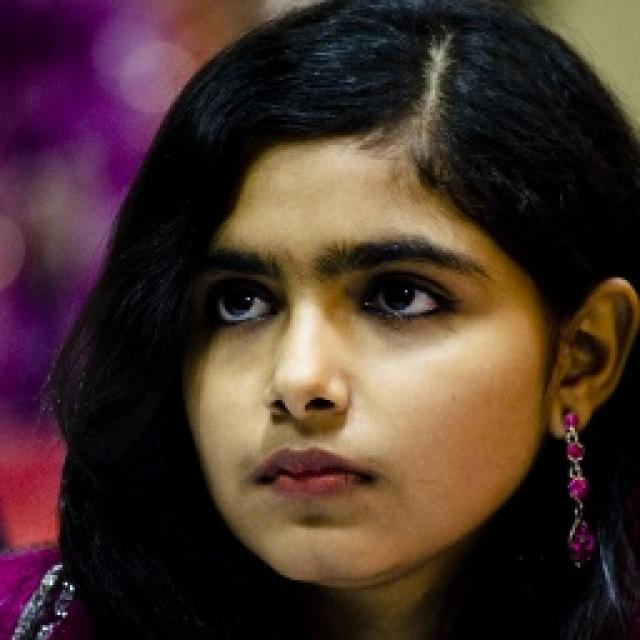earlobe: (542, 275, 640, 437)
